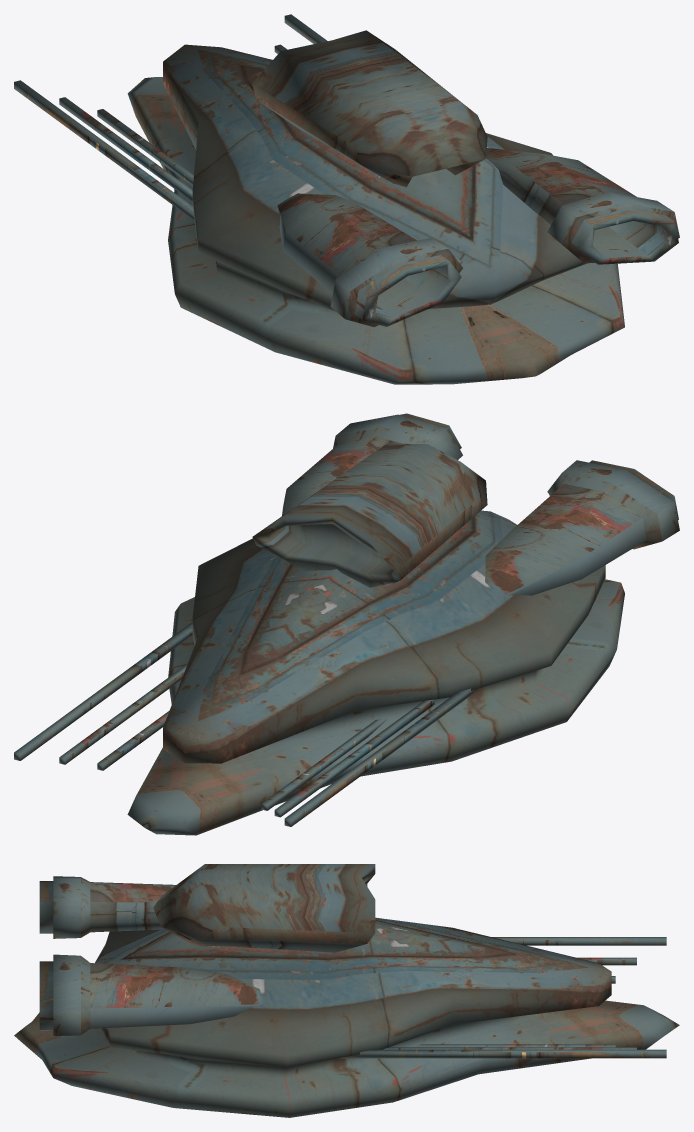
Rendered from enemy_ship.obj.
3 views of the same model, one above another, from view 1: azimuth 30°, elevation 25°; view 2: azimuth 150°, elevation 25°; view 3: azimuth 270°, elevation 25° (orthographic). The views are drawn at different scales.
Visible parts, largest first — view 1: enemy_ship_Plane; view 2: enemy_ship_Plane; view 3: enemy_ship_Plane.
Part boxes in pixels (x1=…): enemy_ship_Plane: x1=14, y1=14, x2=679, y2=384; enemy_ship_Plane: x1=14, y1=413, x2=679, y2=835; enemy_ship_Plane: x1=14, y1=864, x2=679, y2=1117.
Size of the model in its own units: 19.42 by 10.99 by 33.09.
